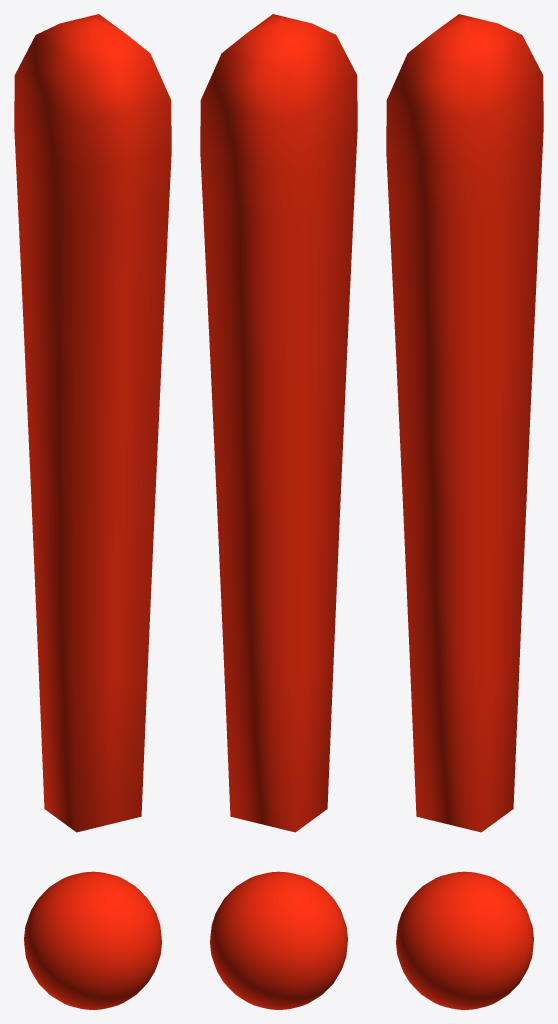
File: bikuri.fbx
3 renders of one model, left to right at view 1: azimuth 30°, elevation 25°; view 2: azimuth 150°, elevation 25°; view 3: azimuth 330°, elevation 25°, orthographic.
Parts seen in each view (by area): view 1: Bikuri_Ue, Bikuri_Sita; view 2: Bikuri_Ue, Bikuri_Sita; view 3: Bikuri_Ue, Bikuri_Sita.
Part boxes in pixels (bbox=[...]): Bikuri_Ue: bbox=[14, 14, 171, 832]; Bikuri_Sita: bbox=[24, 871, 161, 1009]; Bikuri_Ue: bbox=[200, 14, 357, 832]; Bikuri_Sita: bbox=[210, 871, 347, 1009]; Bikuri_Ue: bbox=[386, 14, 543, 832]; Bikuri_Sita: bbox=[396, 871, 533, 1009].
Size of the model in its own units: 145 by 1139 by 145.
Materials: 2 (2 with a texture image).
